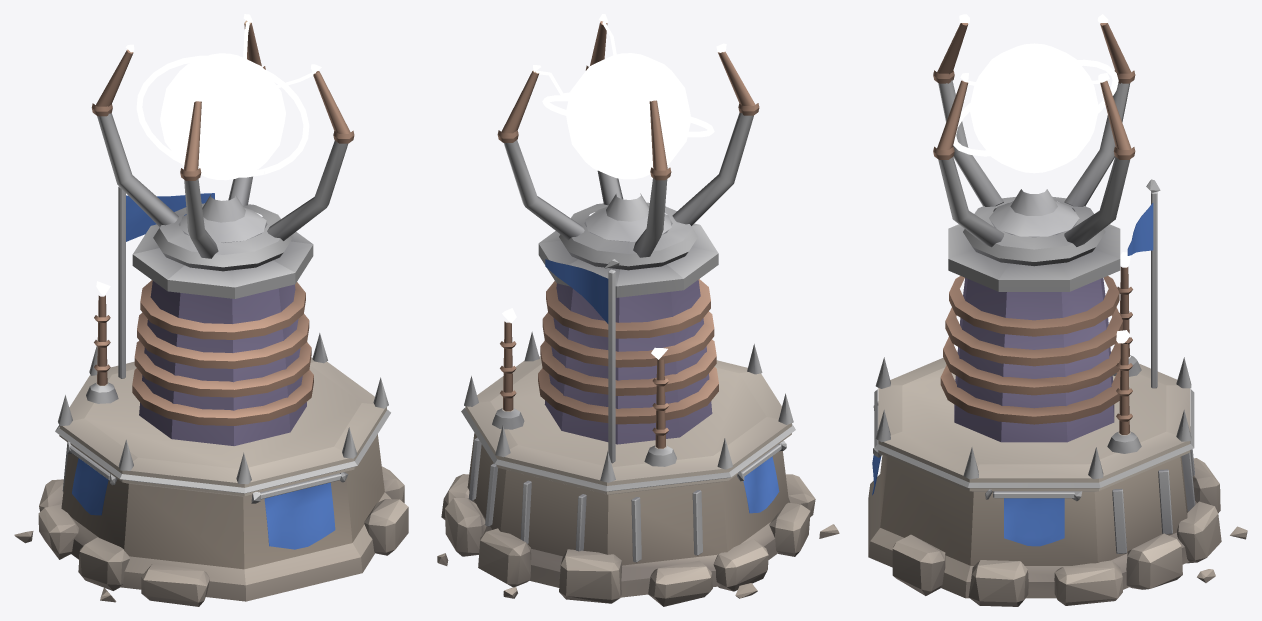
Rendered from spark_2_6.glb.
3 renders of one model, left to right at view 1: azimuth 30°, elevation 25°; view 2: azimuth 150°, elevation 25°; view 3: azimuth 270°, elevation 25°, orthographic. The views are drawn at different scales.
Visible parts, largest first — view 1: Tower, Turret; view 2: Tower, Turret; view 3: Tower, Turret.
Boxes of the visible parts, x1=… form: Tower: x1=14, y1=186, x2=408, y2=606; Turret: x1=91, y1=14, x2=354, y2=271; Tower: x1=437, y1=216, x2=839, y2=606; Turret: x1=497, y1=14, x2=759, y2=270; Tower: x1=868, y1=179, x2=1247, y2=606; Turret: x1=933, y1=14, x2=1135, y2=266.
Size of the model in its own units: 3.56 by 5.01 by 3.51.
